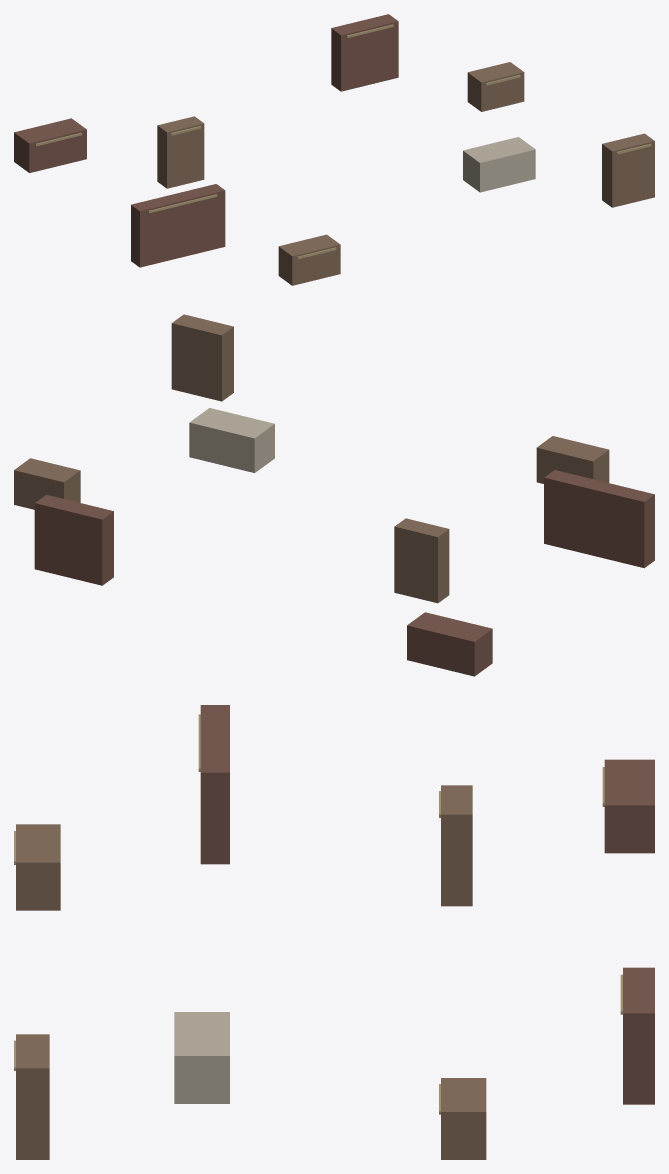
File: furnishings_floor_03.glb
3 views of the same model, one above another, from view 1: azimuth 30°, elevation 25°; view 2: azimuth 150°, elevation 25°; view 3: azimuth 270°, elevation 25° (orthographic). The views are drawn at different scales.
Visible parts, largest first — view 1: fe-f3-room3_bookcase, fe-f3-room2_chart_cabinet, fe-f3-room4_old_wardrobe, fe-f3-room4_antique_crib, fe-f3-room1_filing_cabinet, fe-f3-room1_writing_desk, fe-f3-room3_reading_desk, fe-f3-room2_instrument_desk; view 2: fe-f3-room3_bookcase, fe-f3-room2_chart_cabinet, fe-f3-room4_old_wardrobe, fe-f3-room4_antique_crib, fe-f3-room1_writing_desk, fe-f3-room1_filing_cabinet, fe-f3-room3_reading_desk, fe-f3-room2_instrument_desk; view 3: fe-f3-room4_antique_crib, fe-f3-room1_writing_desk, fe-f3-room3_bookcase, fe-f3-room2_chart_cabinet, fe-f3-room4_old_wardrobe, fe-f3-room3_reading_desk, fe-f3-room1_filing_cabinet, fe-f3-room2_instrument_desk.
Boxes of the visible parts, x1=… form: fe-f3-room3_bookcase: x1=131, y1=184, x2=225, y2=267; fe-f3-room2_chart_cabinet: x1=331, y1=14, x2=398, y2=91; fe-f3-room4_old_wardrobe: x1=602, y1=133, x2=654, y2=207; fe-f3-room4_antique_crib: x1=463, y1=137, x2=535, y2=192; fe-f3-room1_filing_cabinet: x1=157, y1=116, x2=204, y2=188; fe-f3-room1_writing_desk: x1=14, y1=118, x2=86, y2=172; fe-f3-room3_reading_desk: x1=278, y1=234, x2=340, y2=285; fe-f3-room2_instrument_desk: x1=467, y1=62, x2=524, y2=111; fe-f3-room3_bookcase: x1=544, y1=470, x2=654, y2=568; fe-f3-room2_chart_cabinet: x1=34, y1=494, x2=113, y2=585; fe-f3-room4_old_wardrobe: x1=171, y1=314, x2=233, y2=401; fe-f3-room4_antique_crib: x1=189, y1=408, x2=274, y2=472; fe-f3-room1_writing_desk: x1=407, y1=612, x2=492, y2=676; fe-f3-room1_filing_cabinet: x1=394, y1=518, x2=449, y2=603; fe-f3-room3_reading_desk: x1=536, y1=436, x2=609, y2=483; fe-f3-room2_instrument_desk: x1=14, y1=458, x2=80, y2=509; fe-f3-room4_antique_crib: x1=174, y1=1012, x2=229, y2=1103; fe-f3-room1_writing_desk: x1=604, y1=759, x2=654, y2=853; fe-f3-room3_bookcase: x1=200, y1=705, x2=229, y2=864; fe-f3-room2_chart_cabinet: x1=623, y1=967, x2=654, y2=1104; fe-f3-room4_old_wardrobe: x1=16, y1=1034, x2=49, y2=1159; fe-f3-room3_reading_desk: x1=16, y1=824, x2=60, y2=910; fe-f3-room1_filing_cabinet: x1=441, y1=785, x2=472, y2=906; fe-f3-room2_instrument_desk: x1=441, y1=1078, x2=486, y2=1159.
Size of the model in its own units: 12.33 by 1.45 by 9.19.
